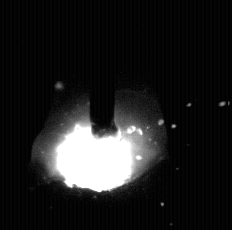arame: (91, 0, 116, 138)
poca: (31, 0, 166, 230)
